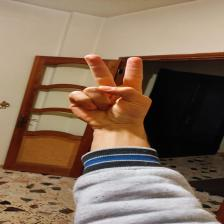two: (66, 53, 153, 127)
